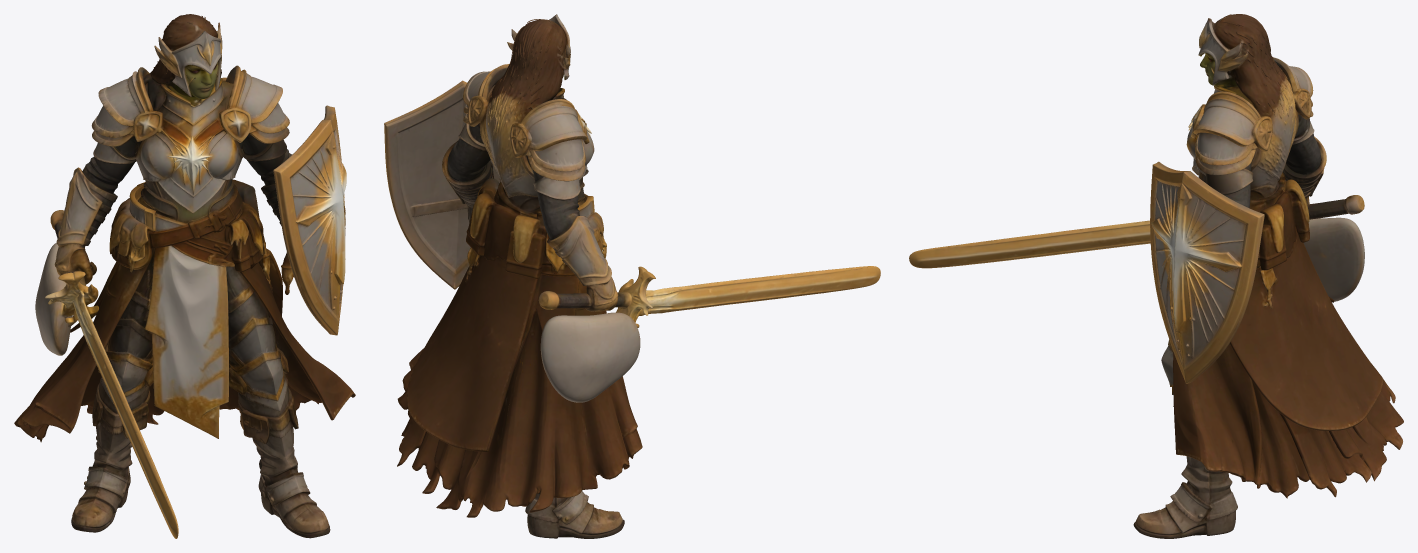
Rendered from half_orc_paladin_full_female_01.glb.
3 views of the same model, side by side, from view 1: azimuth 30°, elevation 25°; view 2: azimuth 150°, elevation 25°; view 3: azimuth 270°, elevation 25° (orthographic). The views are drawn at different scales.
Visible parts, largest first — view 1: material; view 2: material; view 3: material.
Boxes of the visible parts, bbox=[...] form: material: bbox=[14, 14, 355, 538]; material: bbox=[384, 14, 880, 538]; material: bbox=[909, 14, 1403, 538].
Bounding box in the file's own units: 0.691 × 0.9702 × 0.9069.
1 material, 1 textured.
